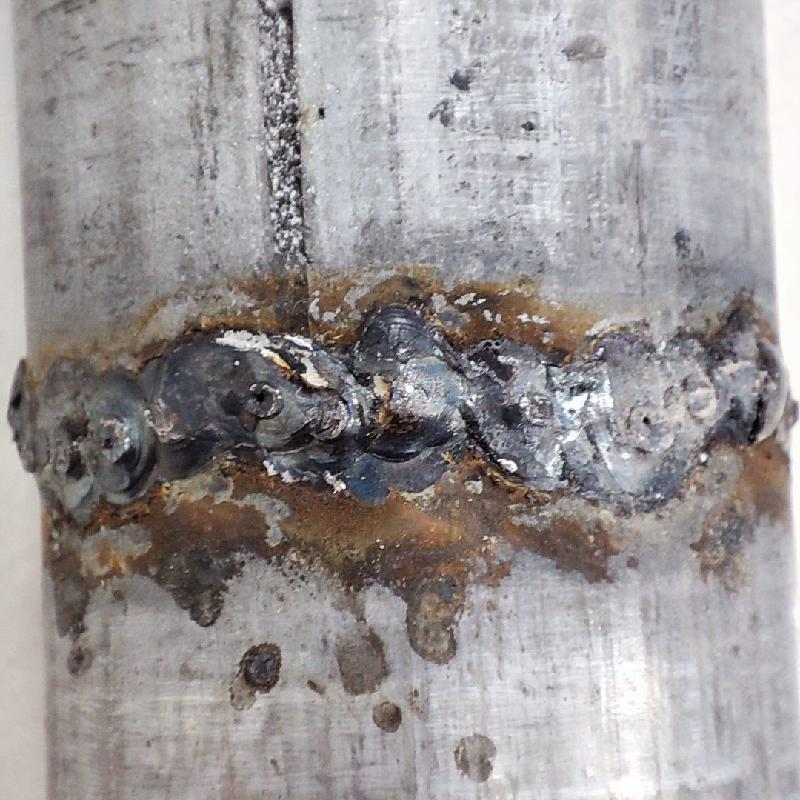Not_fully_soldered: (578, 315, 731, 501)
Surface_pores: (240, 379, 287, 417), (91, 421, 128, 460), (633, 404, 668, 436)
